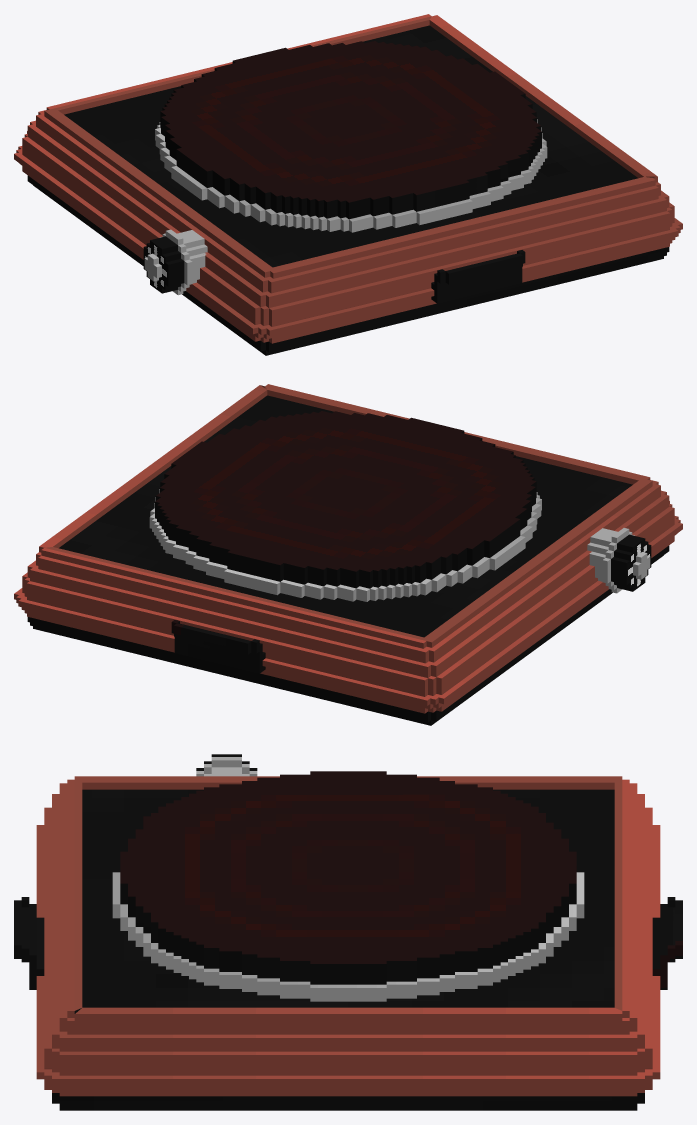
Rendered from Hotplate (1).fbx.
The picture shows the model from 3 angles, top to bottom: view 1: azimuth 30°, elevation 25°; view 2: azimuth 150°, elevation 25°; view 3: azimuth 270°, elevation 25°; orthographic projection. The views are drawn at different scales.
Parts seen in each view (by area): view 1: Hotplate; view 2: Hotplate; view 3: Hotplate.
Boxes of the visible parts, box(x1,y1,x2,y2) form: Hotplate: box(14, 14, 682, 355); Hotplate: box(14, 384, 682, 725); Hotplate: box(14, 754, 682, 1110).
Size of the model in its own units: 8.7 by 1.8 by 8.8.
1 material, 1 textured.
